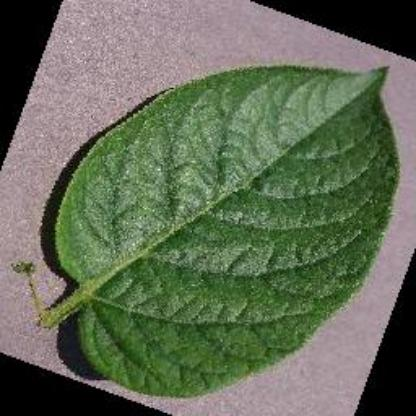Healthy-plant: (44, 59, 402, 400)
